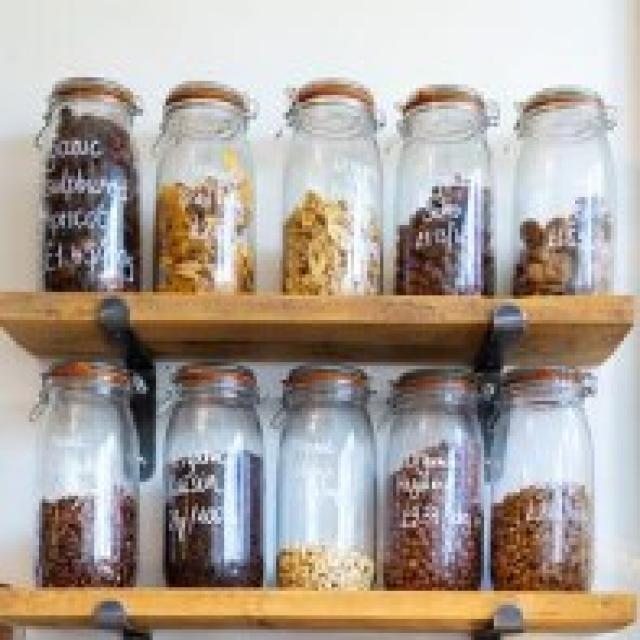electronic: (278, 362, 377, 592)
